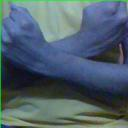hand: (0, 5, 51, 77), (78, 1, 128, 60)
